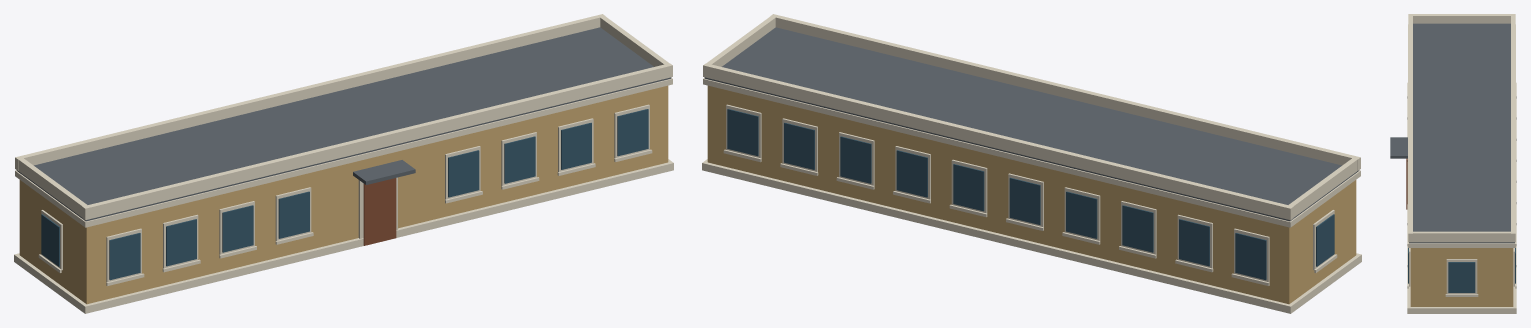
The model's file is 03-wide-low.glb.
3 views of the same model, side by side, from view 1: azimuth 30°, elevation 25°; view 2: azimuth 150°, elevation 25°; view 3: azimuth 270°, elevation 25° (orthographic). The views are drawn at different scales.
Parts seen in each view (by area): view 1: 03-wide-low; view 2: 03-wide-low; view 3: 03-wide-low.
Boxes of the visible parts, x1=… form: 03-wide-low: x1=14, y1=14, x2=673, y2=313; 03-wide-low: x1=702, y1=14, x2=1361, y2=313; 03-wide-low: x1=1390, y1=14, x2=1516, y2=313.
Size of the model in its own units: 20.26 by 3.44 by 4.92.
